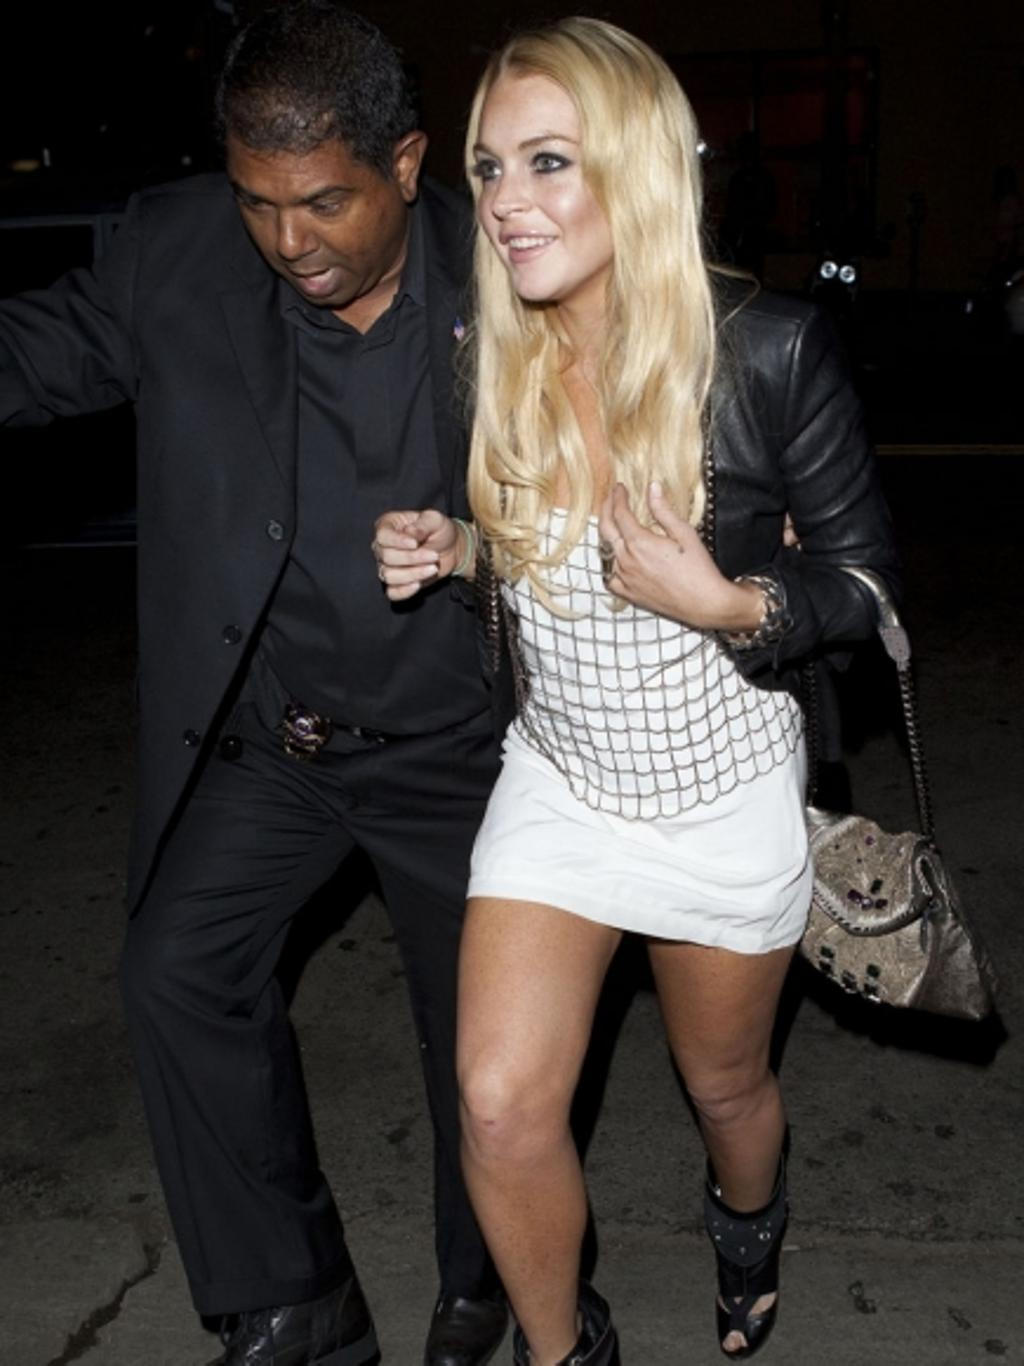face: (480, 80, 616, 307), (240, 123, 379, 312)
